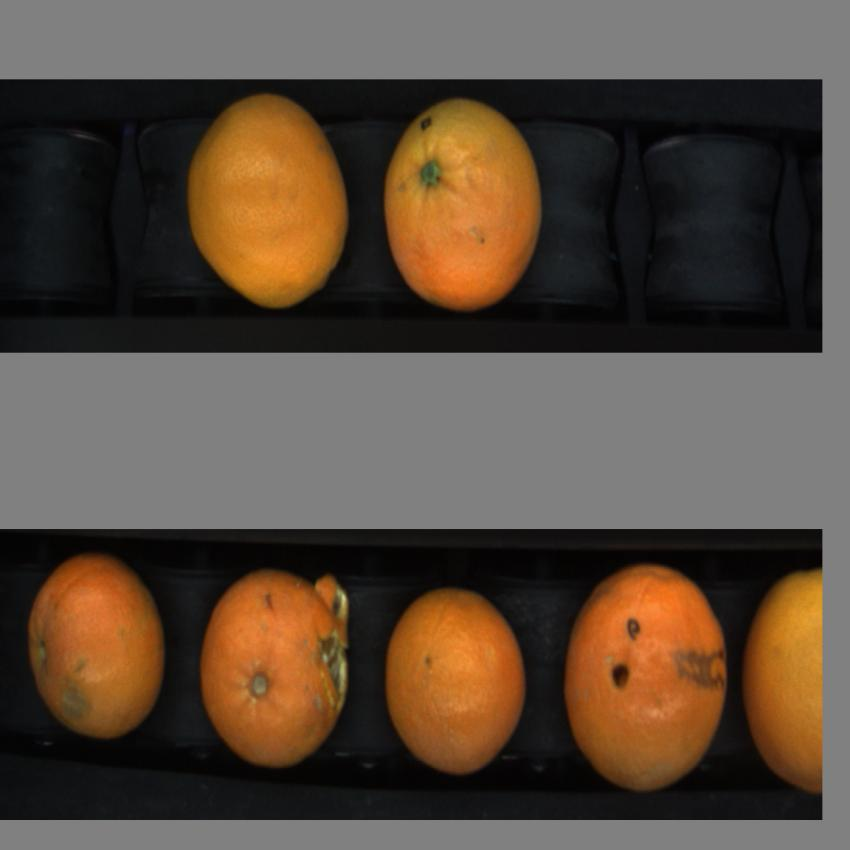Buen estado: (561, 556, 737, 798), (375, 101, 558, 311), (185, 91, 353, 315), (376, 576, 543, 791), (26, 557, 170, 743), (742, 562, 820, 797)
Mal estado: (200, 562, 362, 771)
